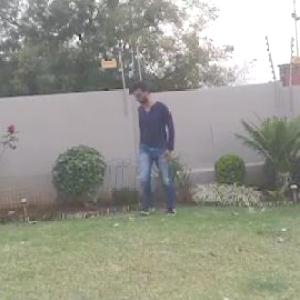follow: (134, 80, 179, 218)
